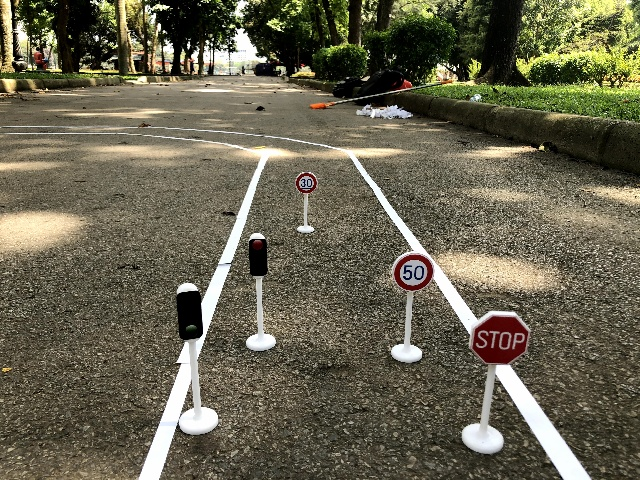Green Traffic Light: (170, 277, 213, 345)
Red Traffic Light: (240, 226, 275, 285)
Speed Limit 30: (292, 167, 321, 197)
Speed Limit 50: (387, 247, 439, 296)
Stop Sign: (465, 305, 537, 369)
